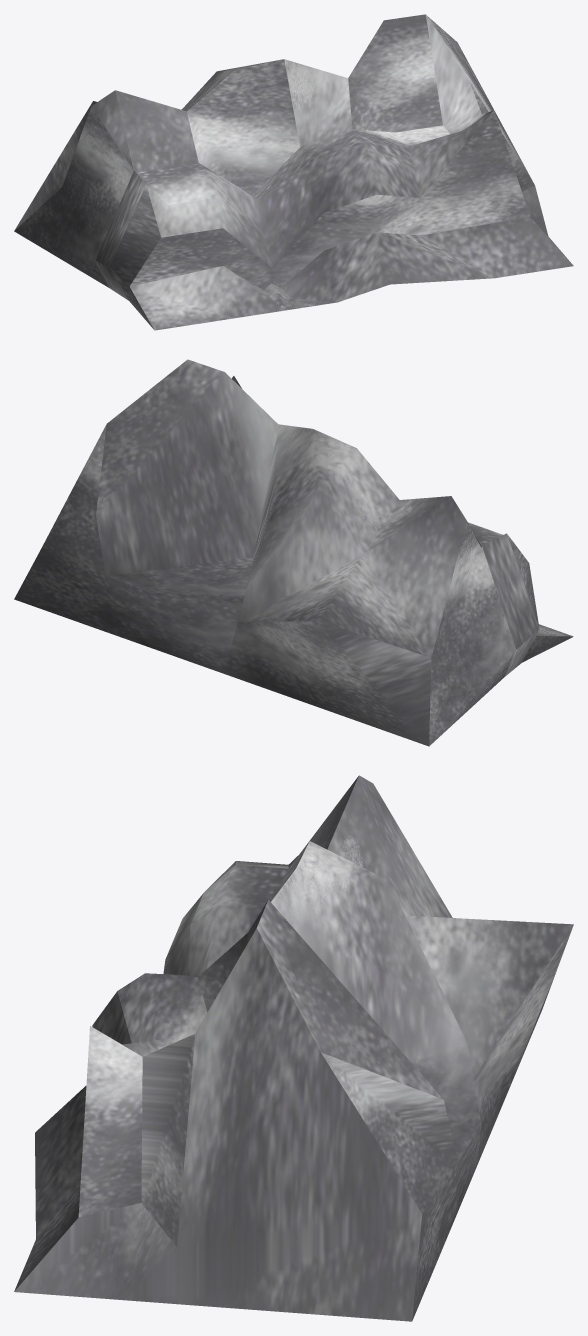
The model's file is Mountain18 - Level 1.FBX.
The picture shows the model from 3 angles, top to bottom: view 1: azimuth 30°, elevation 25°; view 2: azimuth 150°, elevation 25°; view 3: azimuth 270°, elevation 25°; orthographic projection. The views are drawn at different scales.
Visible parts, largest first — view 1: Mountain 18; view 2: Mountain 18; view 3: Mountain 18.
Boxes of the visible parts, bbox=[...] form: Mountain 18: bbox=[14, 14, 573, 330]; Mountain 18: bbox=[14, 359, 573, 746]; Mountain 18: bbox=[14, 775, 573, 1321].
Bounding box in the file's own units: 163 × 76.25 × 123.
1 material, 1 textured.
